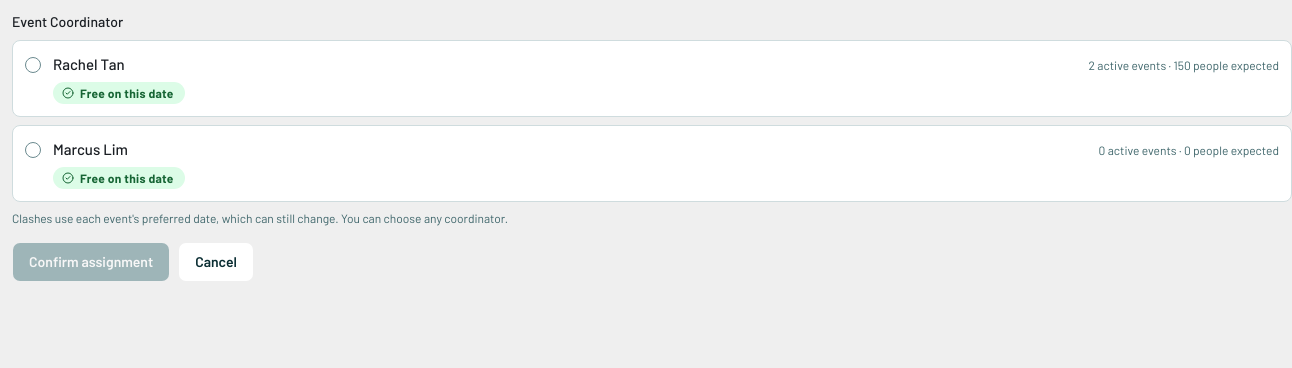
Scenario: SCRUM-178/AC2 assigning updates the sidebar count › SCRUM-178/AC2 leaves the count alone when the assignment is refused
The width and height of the screenshot is (1292, 368).
Click the radio button named "Marcus Lim" next to "Marcus Lim". click: (33, 150)
box: [25, 142, 41, 158]
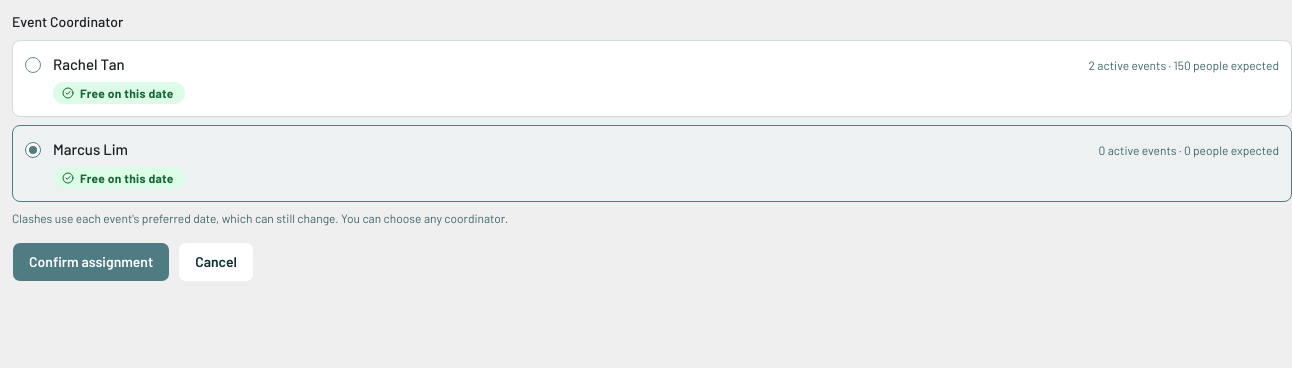
Click the button "Confirm assignment". click: (91, 262)
box: [12, 242, 170, 282]
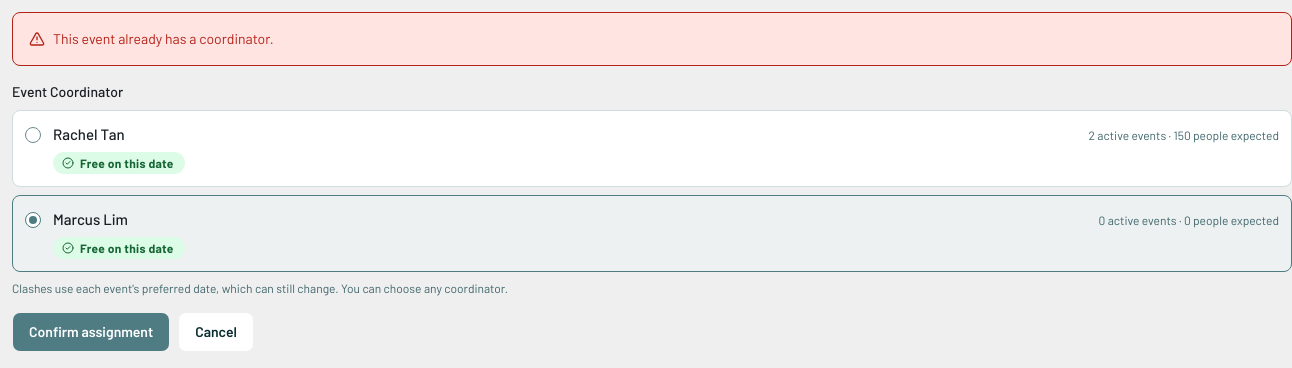
Result: the message shows "already has a coordinator" at [53, 30, 274, 47]
